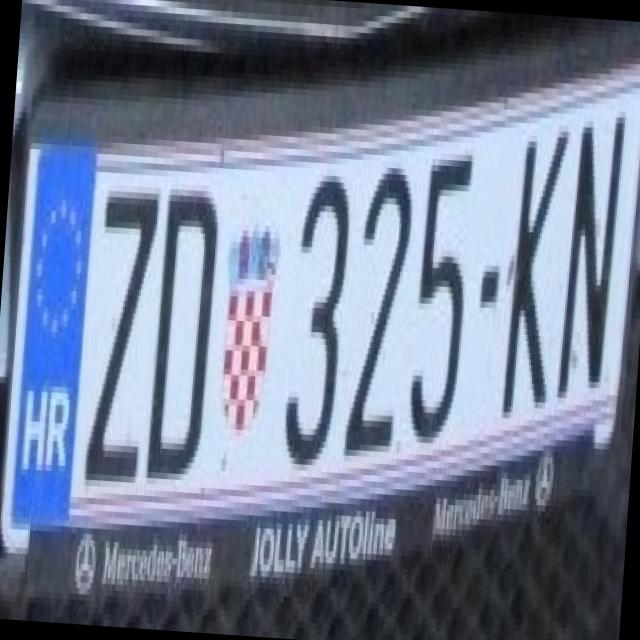2: (340, 148, 414, 458)
3: (275, 149, 354, 466)
5: (400, 127, 478, 444)
D: (143, 170, 222, 481)
K: (490, 103, 575, 415)
N: (548, 95, 632, 395)
Z: (80, 165, 160, 482)
